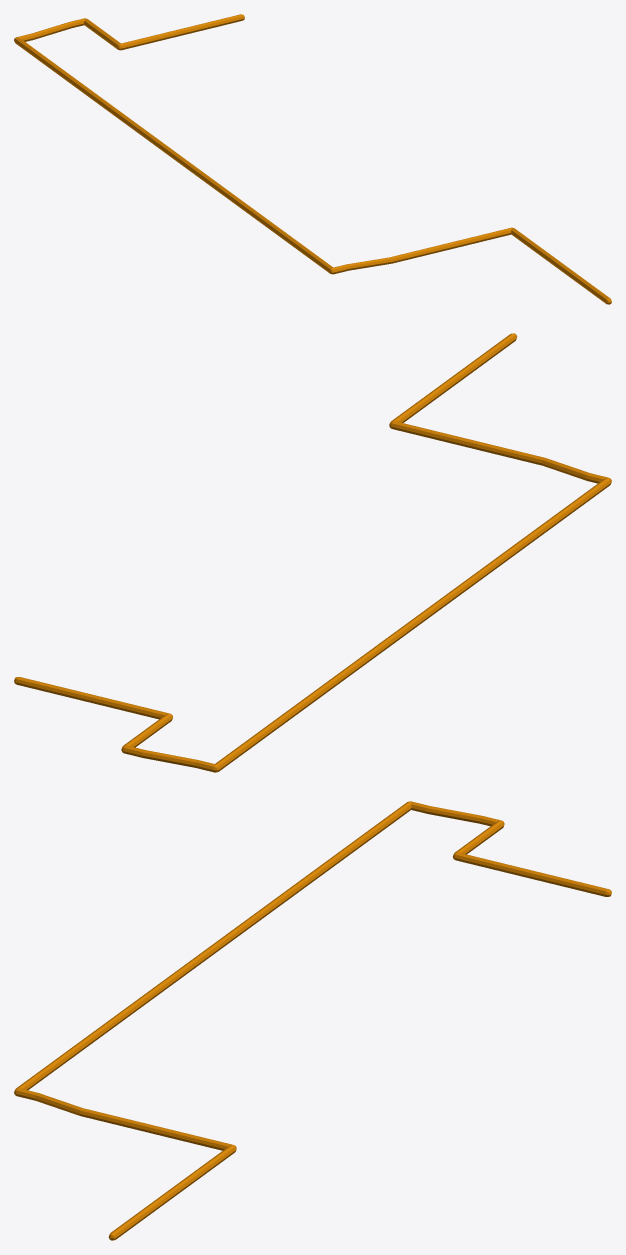
3 views of the same model, one above another, from view 1: azimuth 30°, elevation 25°; view 2: azimuth 150°, elevation 25°; view 3: azimuth 330°, elevation 25° (orthographic). The views are drawn at different scales.
Bounding box in the file's own units: 652 × 20 × 2404.
